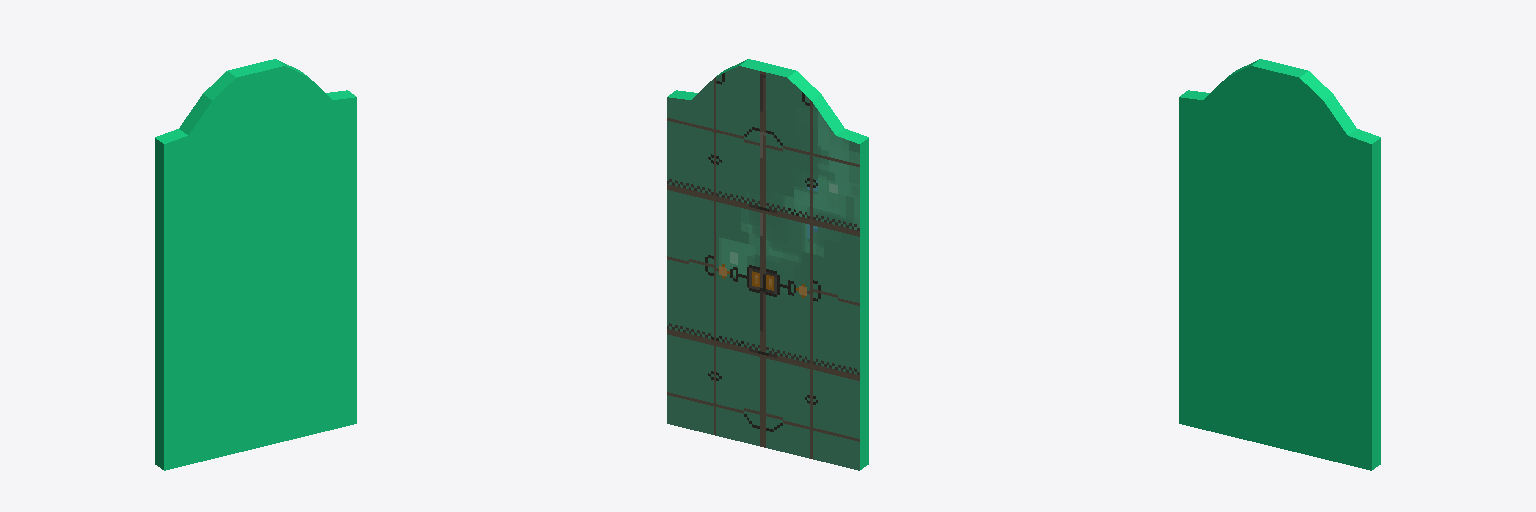
3 renders of one model, left to right at view 1: azimuth 30°, elevation 25°; view 2: azimuth 150°, elevation 25°; view 3: azimuth 330°, elevation 25°, orthographic.
Visible parts, largest first — view 1: cuboid; view 2: cuboid; view 3: cuboid.
Part boxes in pixels (bbox=[...]): cuboid: bbox=[155, 59, 356, 470]; cuboid: bbox=[667, 59, 868, 470]; cuboid: bbox=[1179, 59, 1380, 470].
Size of the model in its own units: 1.09 by 2.03 by 0.0938.
1 materials, 1 textured.